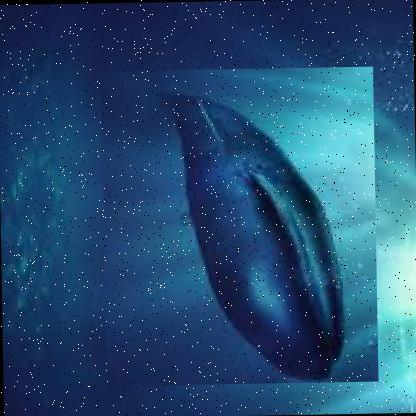blue_whale: (100, 63, 378, 384)
